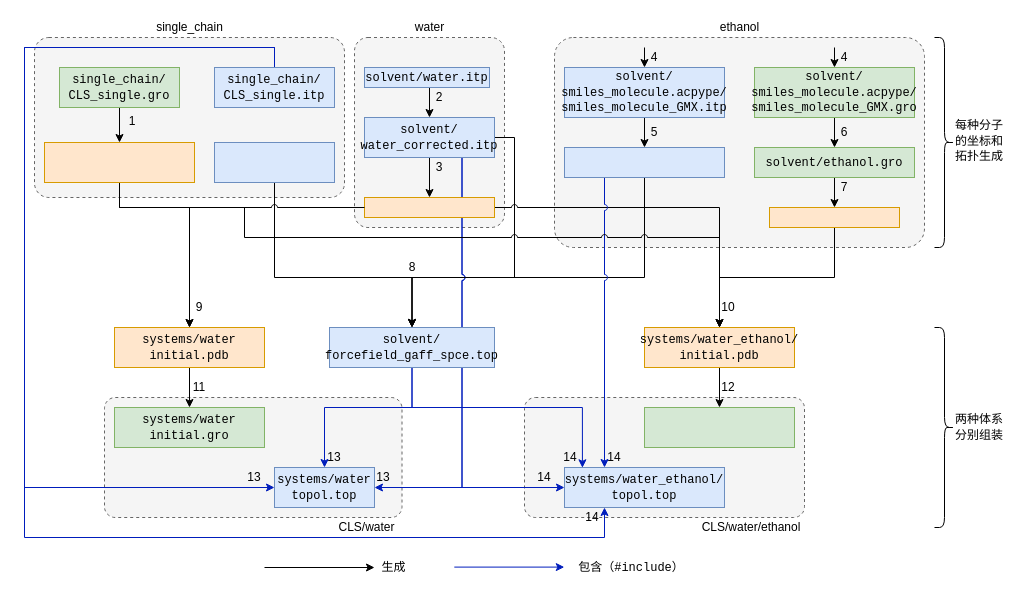
Image size: 1022x594. Some labels were removed from this diagram. Each missing label, with the centre of its shape:
single_chain/ CLS_single_packmol.pdb: the point at 119,162
single_chain/ top_corrected.top: the point at 274,162
solvent/ethanol.itp: the point at 644,162
solvent/ethanol.pdb: the point at 834,217
solvent/water.pdb: the point at 429,207
systems/water_ethanol/ initial.gro: the point at 719,427
